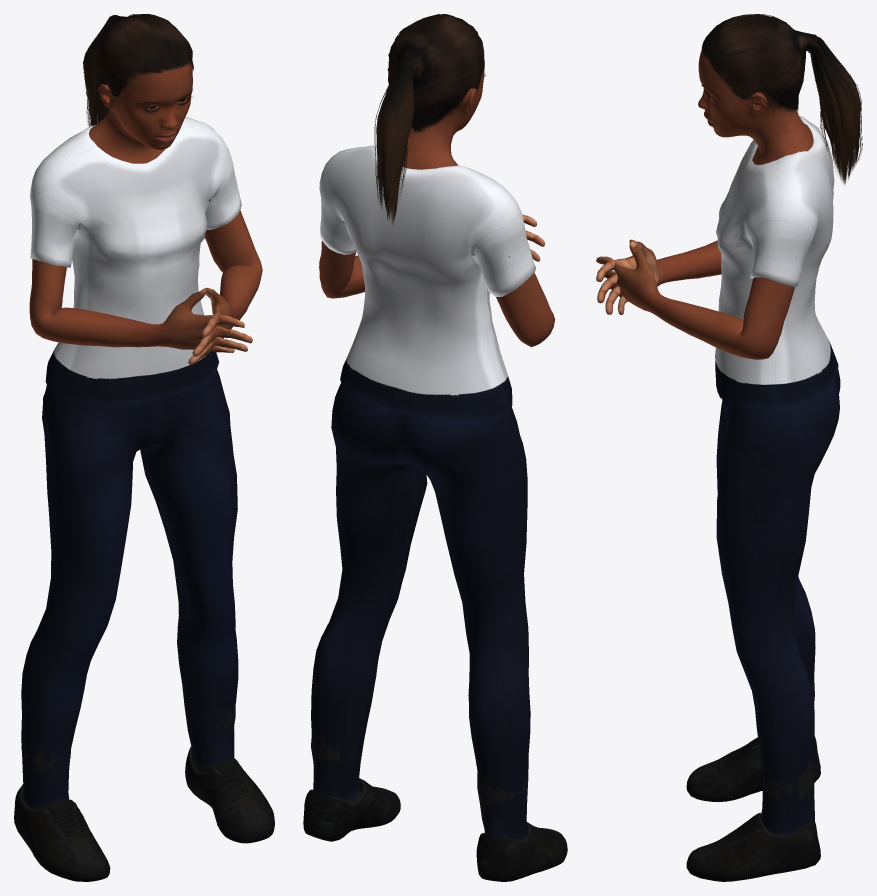
Rendered from g2_watch.glb.
3 renders of one model, left to right at view 1: azimuth 30°, elevation 25°; view 2: azimuth 150°, elevation 25°; view 3: azimuth 270°, elevation 25°, orthographic.
Visible parts, largest first — view 1: g2.female_casualsuit01, g2, g2.shoes02, g2.ponytail01; view 2: g2.female_casualsuit01, g2.ponytail01, g2.shoes02, g2; view 3: g2.female_casualsuit01, g2, g2.ponytail01, g2.shoes02.
Part boxes in pixels (x1,y1,x2,y2): g2.female_casualsuit01: (21, 116, 241, 808); g2: (29, 61, 262, 364); g2.shoes02: (14, 704, 274, 881); g2.ponytail01: (83, 14, 193, 126); g2.female_casualsuit01: (311, 145, 535, 839); g2.ponytail01: (374, 14, 484, 224); g2.shoes02: (303, 731, 567, 881); g2: (319, 59, 555, 347); g2.female_casualsuit01: (715, 115, 840, 834); g2: (596, 50, 813, 359); g2.ponytail01: (701, 14, 862, 184); g2.shoes02: (686, 679, 820, 881).
Bounding box in the file's own units: 0.4494 × 1.56 × 0.4605.
7 materials, 7 textured.
